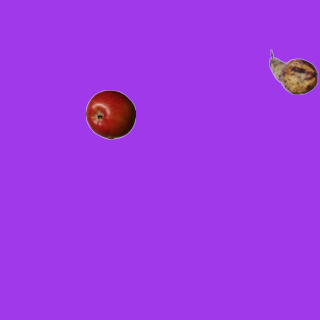Apple Braeburn: (85, 89, 135, 139)
Pear Abate: (268, 47, 318, 97)
